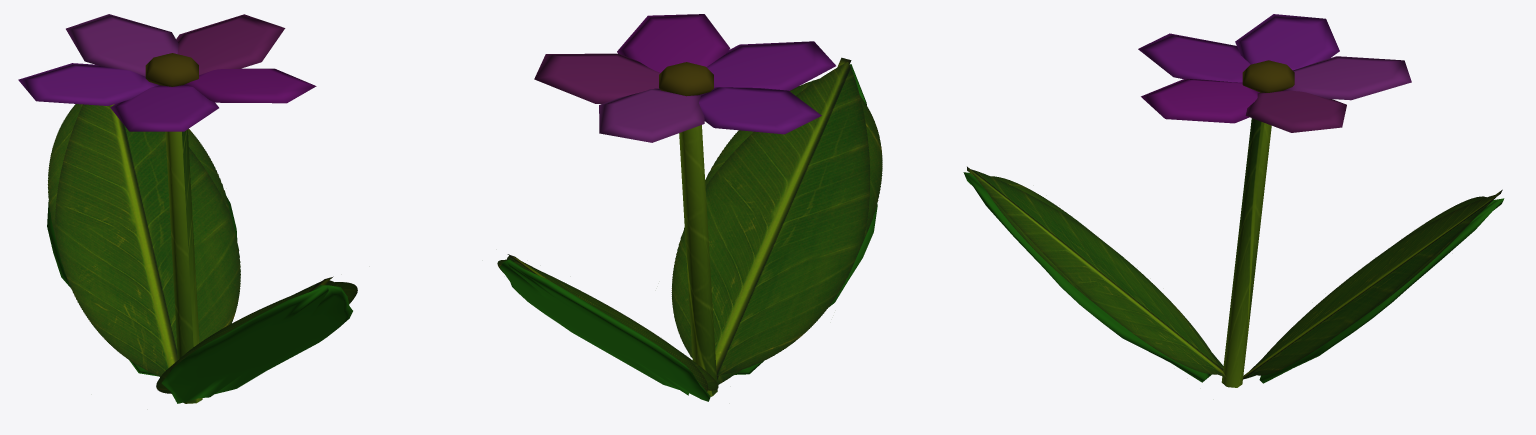
The model's file is lilaflower.glb.
3 views of the same model, side by side, from view 1: azimuth 30°, elevation 25°; view 2: azimuth 150°, elevation 25°; view 3: azimuth 270°, elevation 25° (orthographic). The views are drawn at different scales.
Visible parts, largest first — view 1: Merged batch 1; view 2: Merged batch 1; view 3: Merged batch 1.
Part boxes in pixels (x1=…): Merged batch 1: x1=18, y1=14, x2=357, y2=403; Merged batch 1: x1=497, y1=14, x2=882, y2=401; Merged batch 1: x1=963, y1=14, x2=1504, y2=387.
Bounding box in the file's own units: 0.7577 × 0.8991 × 1.42.
1 material, 1 textured.
